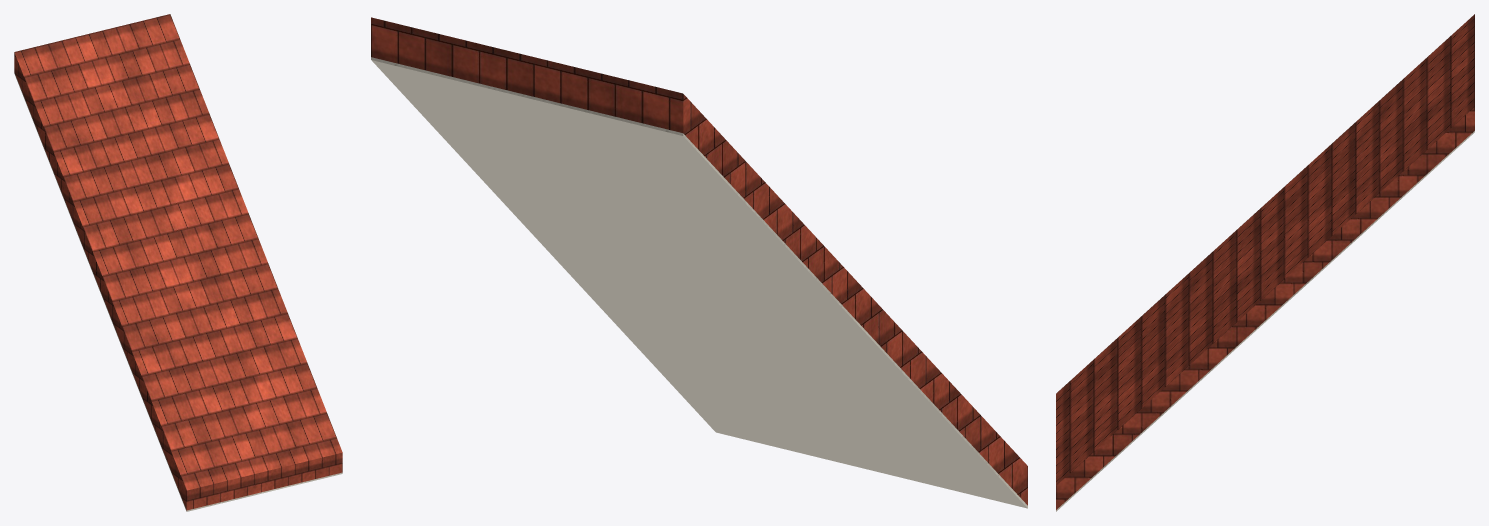
The model's file is roof_slope_end.glb.
3 renders of one model, left to right at view 1: azimuth 30°, elevation 25°; view 2: azimuth 150°, elevation 25°; view 3: azimuth 270°, elevation 25°, orthographic. The views are drawn at different scales.
Visible parts, largest first — view 1: roof_slope_end_roof_tiles, roof_slope_end_plaster; view 2: roof_slope_end_plaster, roof_slope_end_roof_tiles; view 3: roof_slope_end_roof_tiles, roof_slope_end_plaster.
Part boxes in pixels (x1,y1,x2,y2): roof_slope_end_roof_tiles: (14,14,342,510); roof_slope_end_plaster: (14,73,342,511); roof_slope_end_plaster: (371,57,1027,508); roof_slope_end_roof_tiles: (371,17,1027,505); roof_slope_end_roof_tiles: (1056,14,1474,509); roof_slope_end_plaster: (1056,131,1474,511).
Size of the model in its own units: 2.3 by 4.7 by 4.4.
2 materials, 2 textured.
